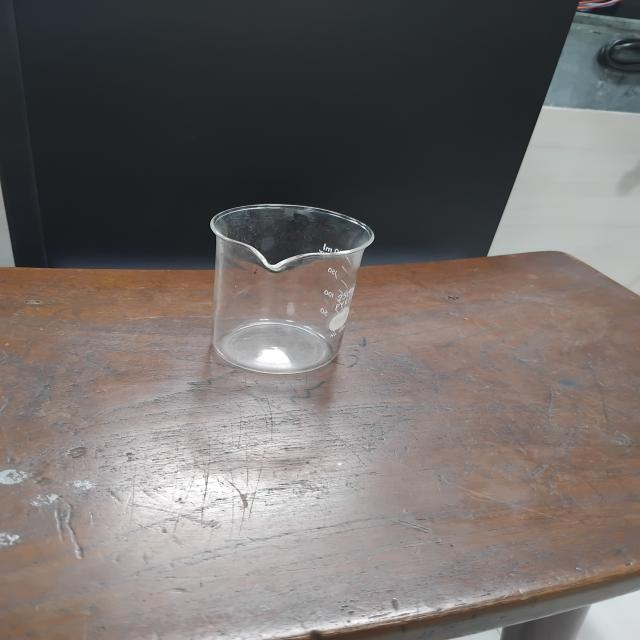Beaker: (175, 186, 402, 394)
